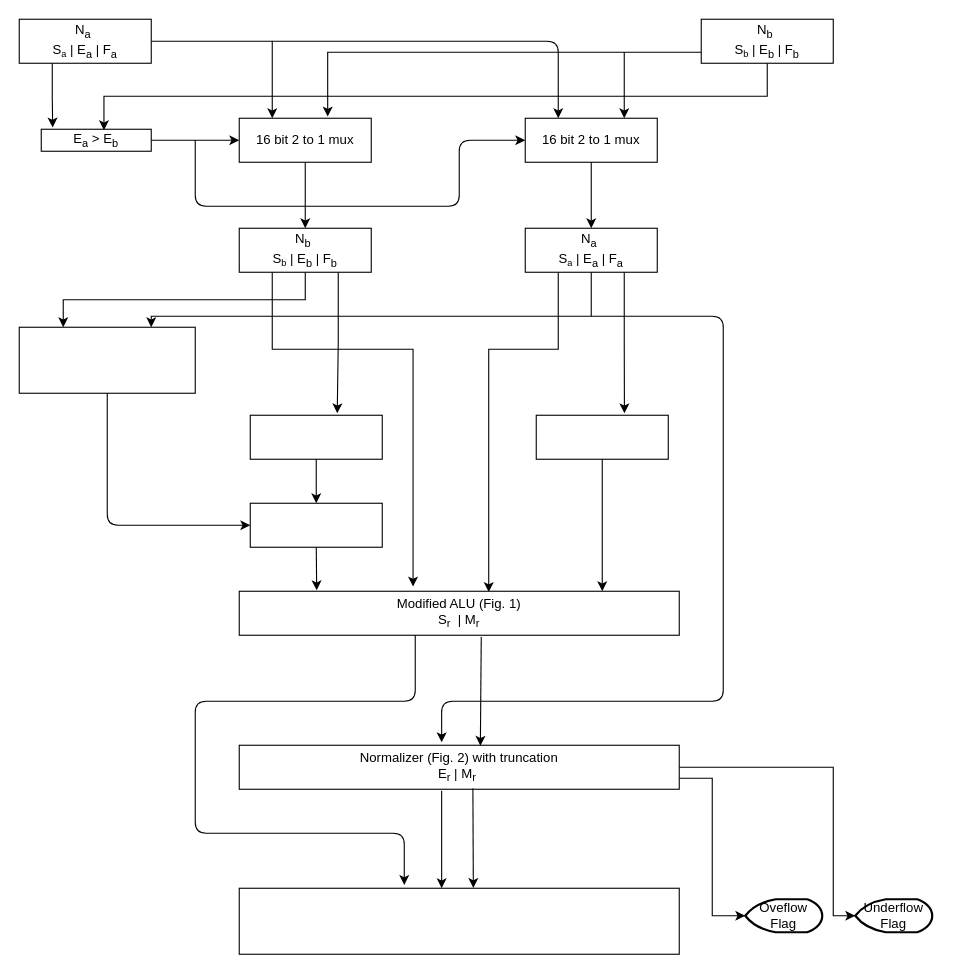
The diagram is 953 pixels wide and 974 high, and some of its shapes have lost their labels. Here are the shapes that lost their labels. From the top down, the centre of each, then its label:
point 106,359: diff_expo = E a - E b
point 315,436: 001F b 00 M b
point 601,436: 001F b 00 M a
point 315,524: 16 bit right shifter
point 458,920: Output Number N r S r | E r | F r
